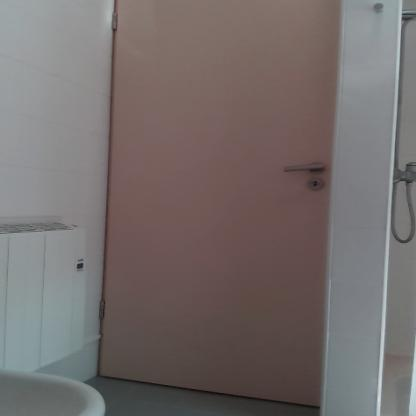door: (111, 0, 325, 408)
hinged: (97, 298, 109, 321), (110, 9, 119, 29)
lever: (279, 160, 327, 175)
